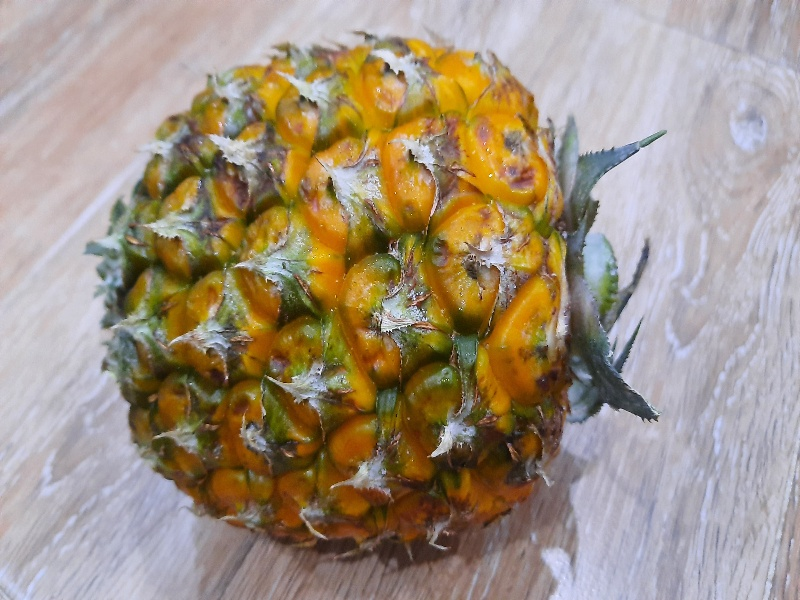fruit: (100, 40, 659, 553)
